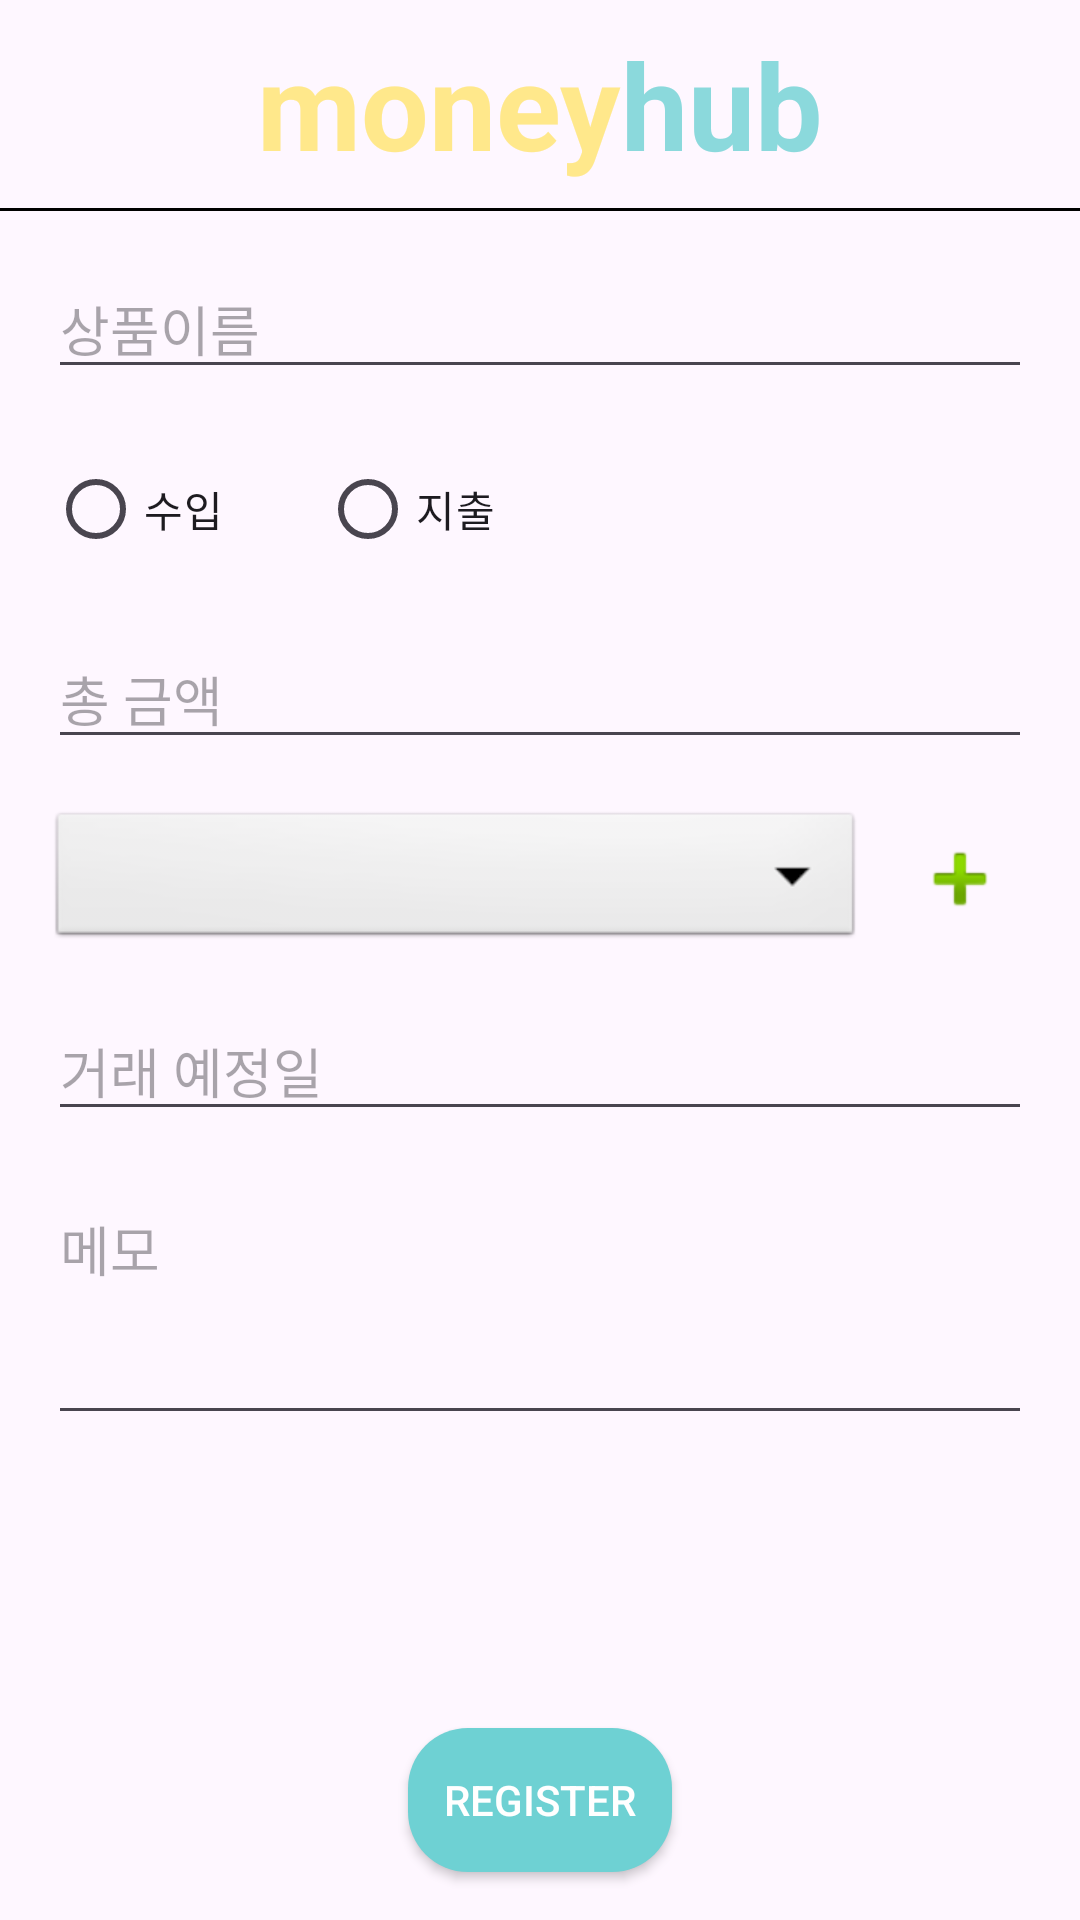

Icons on this 1080×1920 Android screen, each with the point to tap as (x=x, y=y):
add: (x=960, y=879)
